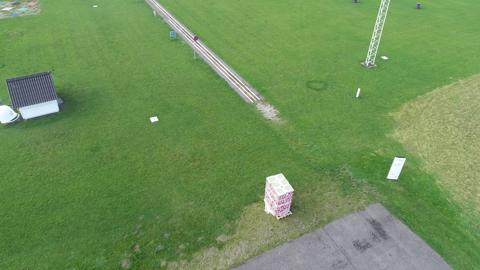RockwoolPallet: (263, 172, 296, 218)
